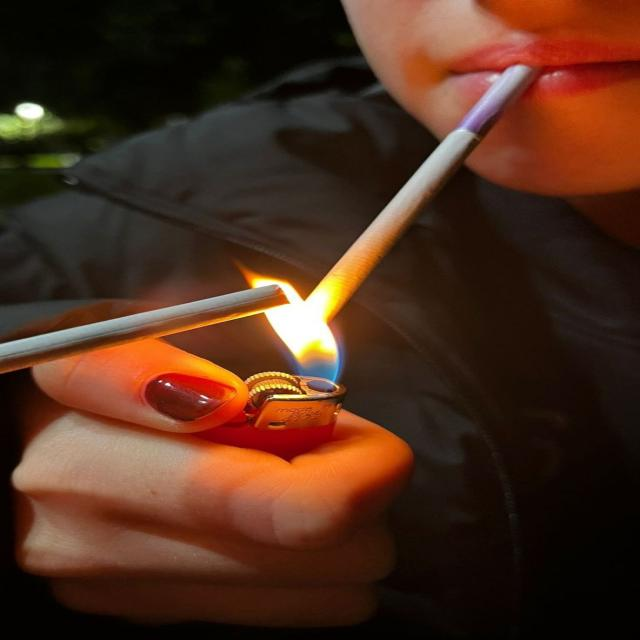fire: (247, 274, 343, 383)
